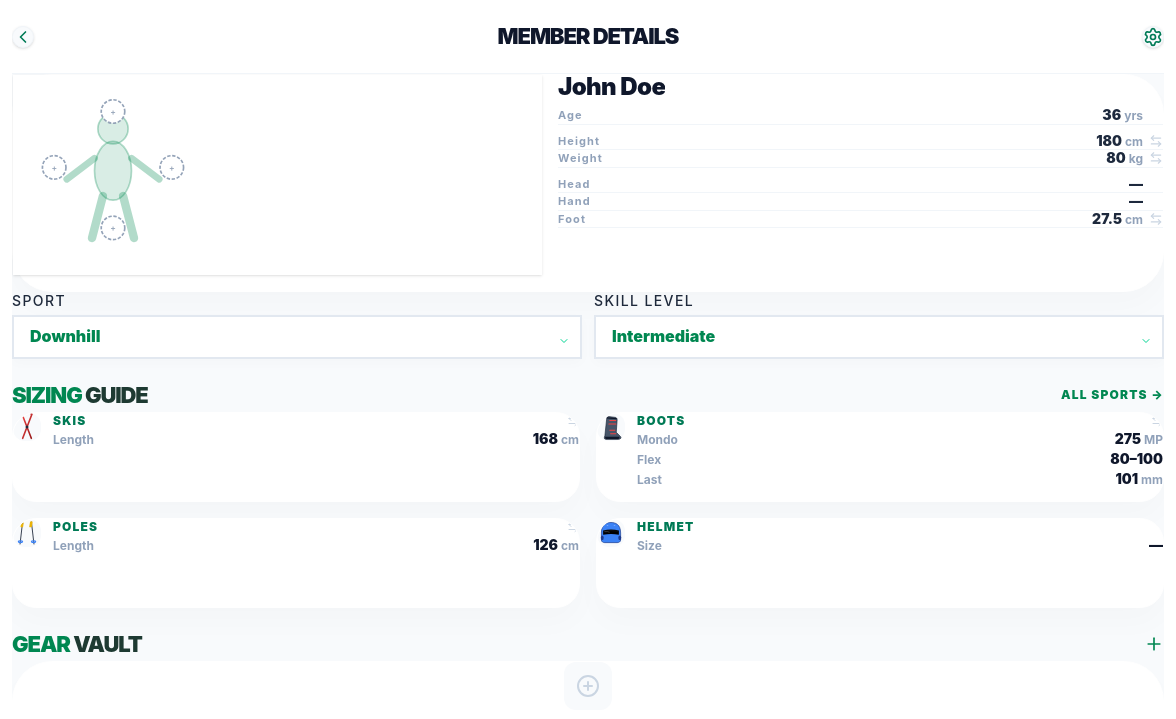
Scenario: MemberDetail › unit toggles › toggles weight from kg to lbs when clicked
The image size is (1176, 719).
Click the button with aria-label "toggle weight units". click: (1135,158)
box: [1106, 151, 1163, 165]
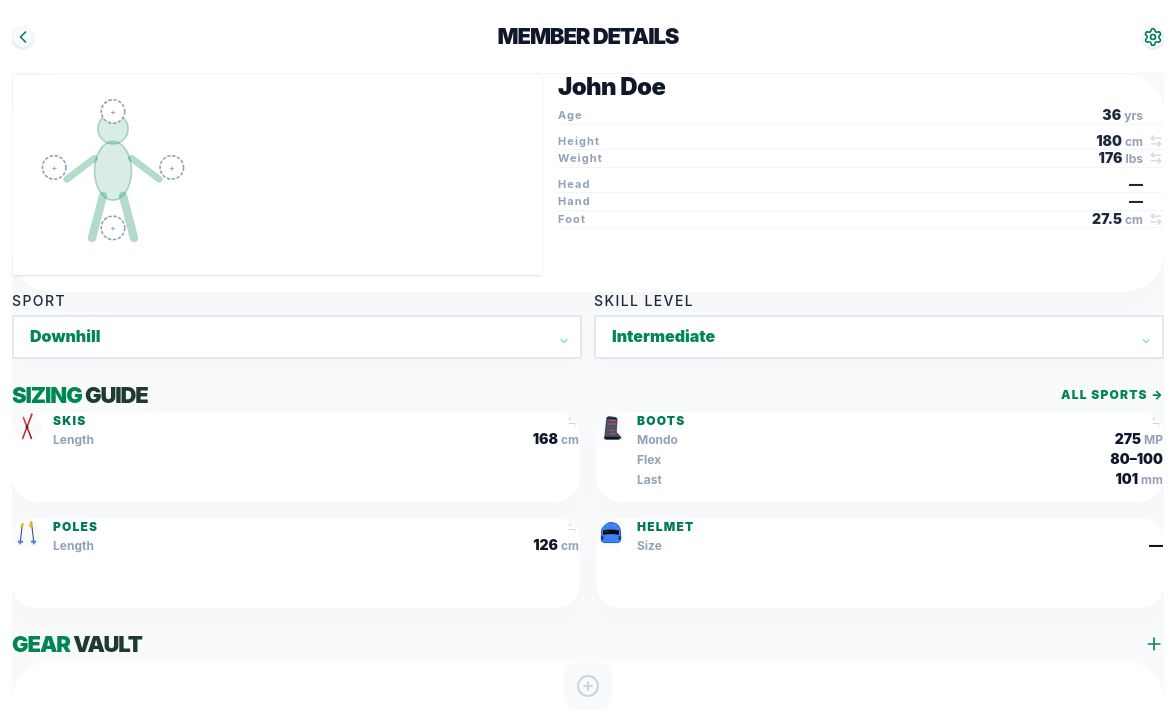
Now the text "lbs" is shown, box [1126, 153, 1143, 165]
